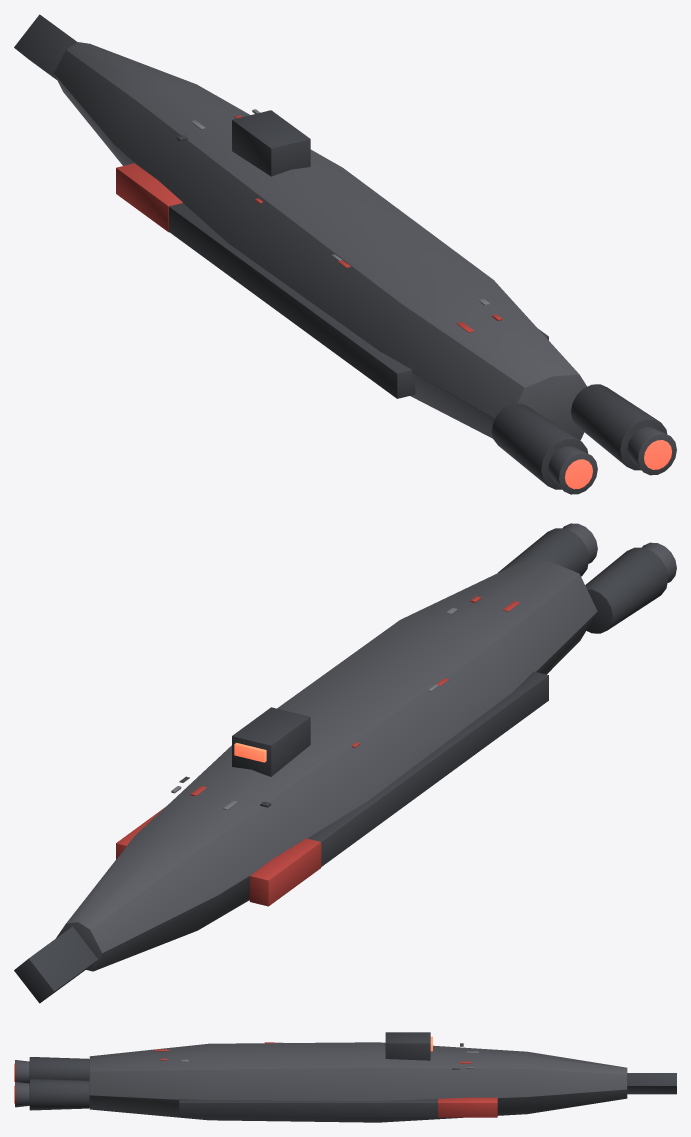
File: capital_kraken.glb
3 views of the same model, one above another, from view 1: azimuth 30°, elevation 25°; view 2: azimuth 150°, elevation 25°; view 3: azimuth 270°, elevation 25° (orthographic). The views are drawn at different scales.
Visible parts, largest first — view 1: CorvetteHull, SUB_engine_L, SUB_engine_R; view 2: CorvetteHull, SUB_engine_L, SUB_engine_R; view 3: CorvetteHull, SUB_engine_R, SUB_engine_L.
Part boxes in pixels (<box>): CorvetteHull: <box>14,14,586,440</box>; SUB_engine_L: <box>492,403,597,494</box>; SUB_engine_R: <box>571,384,676,475</box>; CorvetteHull: <box>14,560,597,1003</box>; SUB_engine_L: <box>585,542,676,633</box>; SUB_engine_R: <box>498,523,597,576</box>; CorvetteHull: <box>89,1032,676,1122</box>; SUB_engine_R: <box>14,1078,89,1110</box>; SUB_engine_L: <box>14,1057,89,1083</box>.
Bounding box in the file's own units: 10.05 × 8.1 × 66.59.
